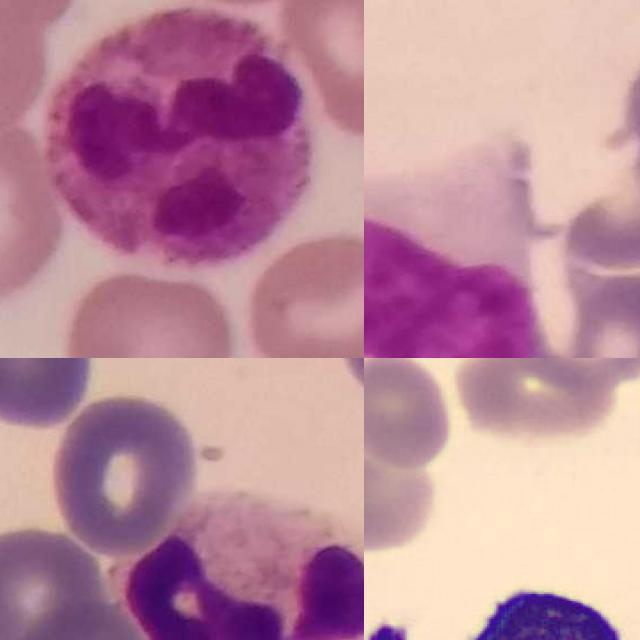Lymphocyte: (449, 567, 640, 640)
Monocyte: (364, 159, 560, 358)
Neutrophil: (43, 7, 312, 264), (121, 493, 364, 640)
Platelets: (364, 618, 417, 640)
RBC: (451, 358, 640, 437), (364, 358, 458, 472), (364, 444, 439, 555), (503, 358, 640, 396)
